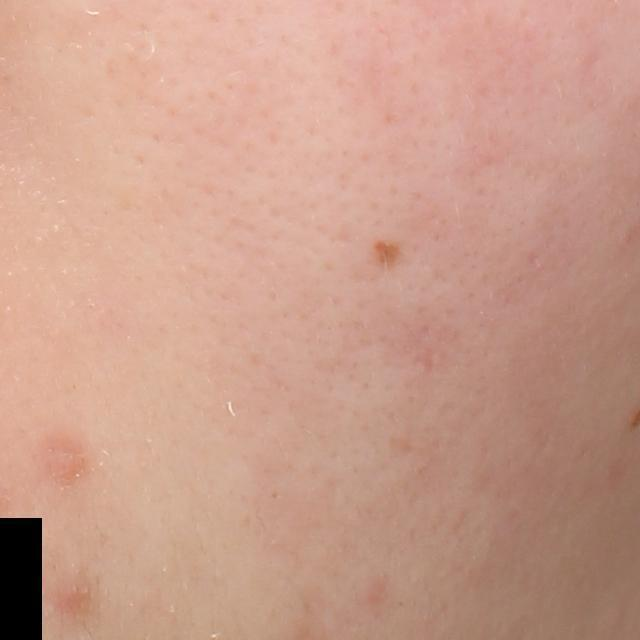nevus: (371, 239, 398, 272)
